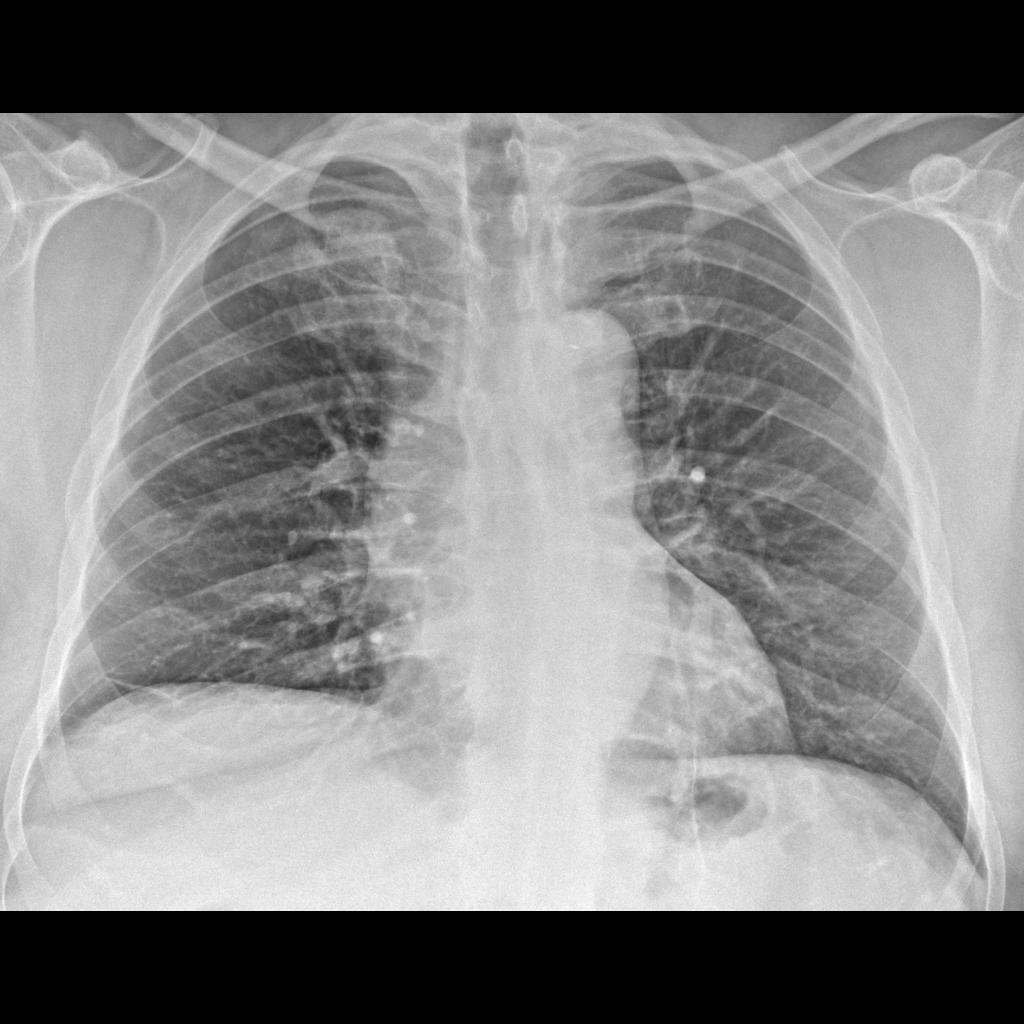Nodule: (315, 196, 409, 293)
